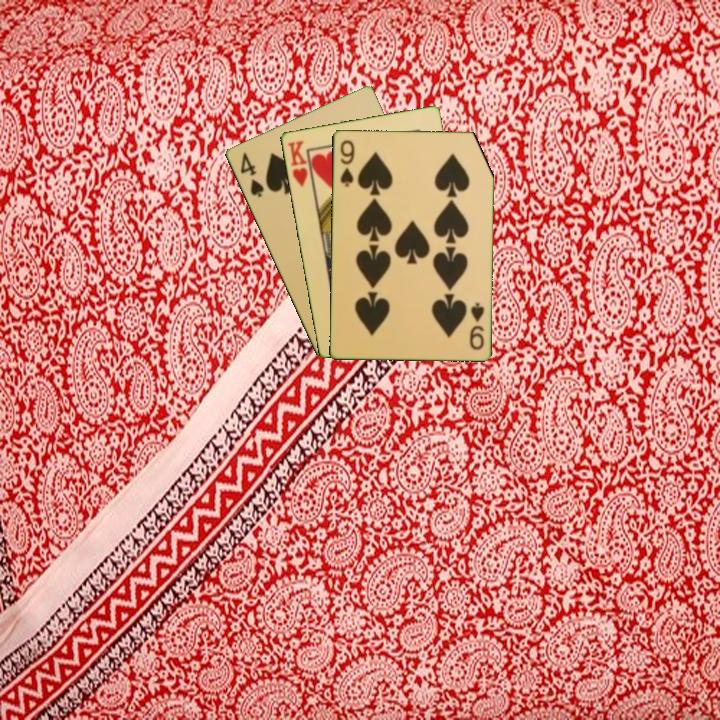4s: (236, 148, 267, 200)
9s: (466, 299, 487, 353), (336, 136, 357, 189)
Kh: (284, 137, 315, 190)
